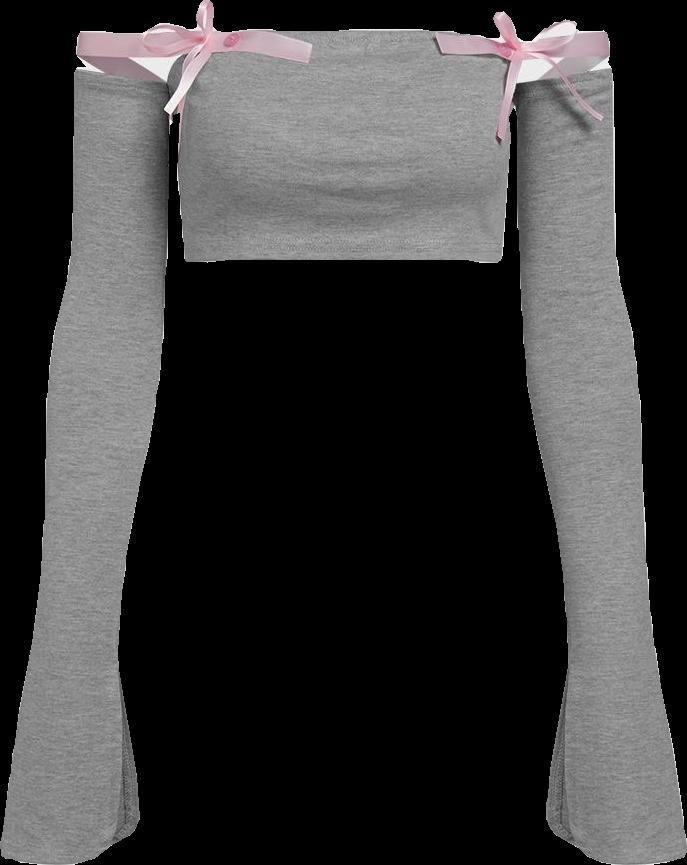Bodice: (169, 29, 519, 262)
Neckline: (159, 26, 521, 89)
Sleeve: (513, 70, 686, 864), (0, 69, 171, 864)
Sleeveline: (504, 67, 614, 102), (74, 67, 173, 89)
Waistline: (182, 253, 508, 268)
